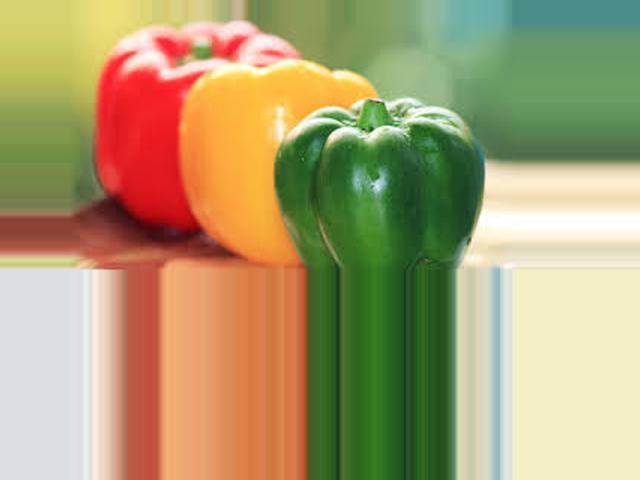bell_pepper: (96, 22, 298, 259)
